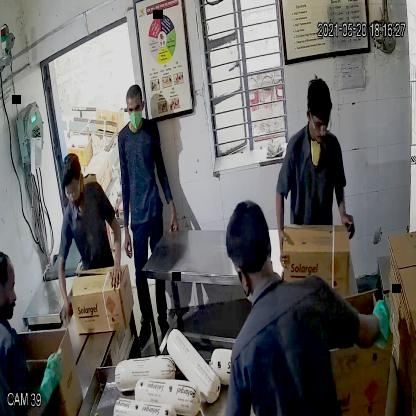goggles: (306, 107, 334, 139)
